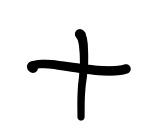plus: (26, 30, 131, 120)
